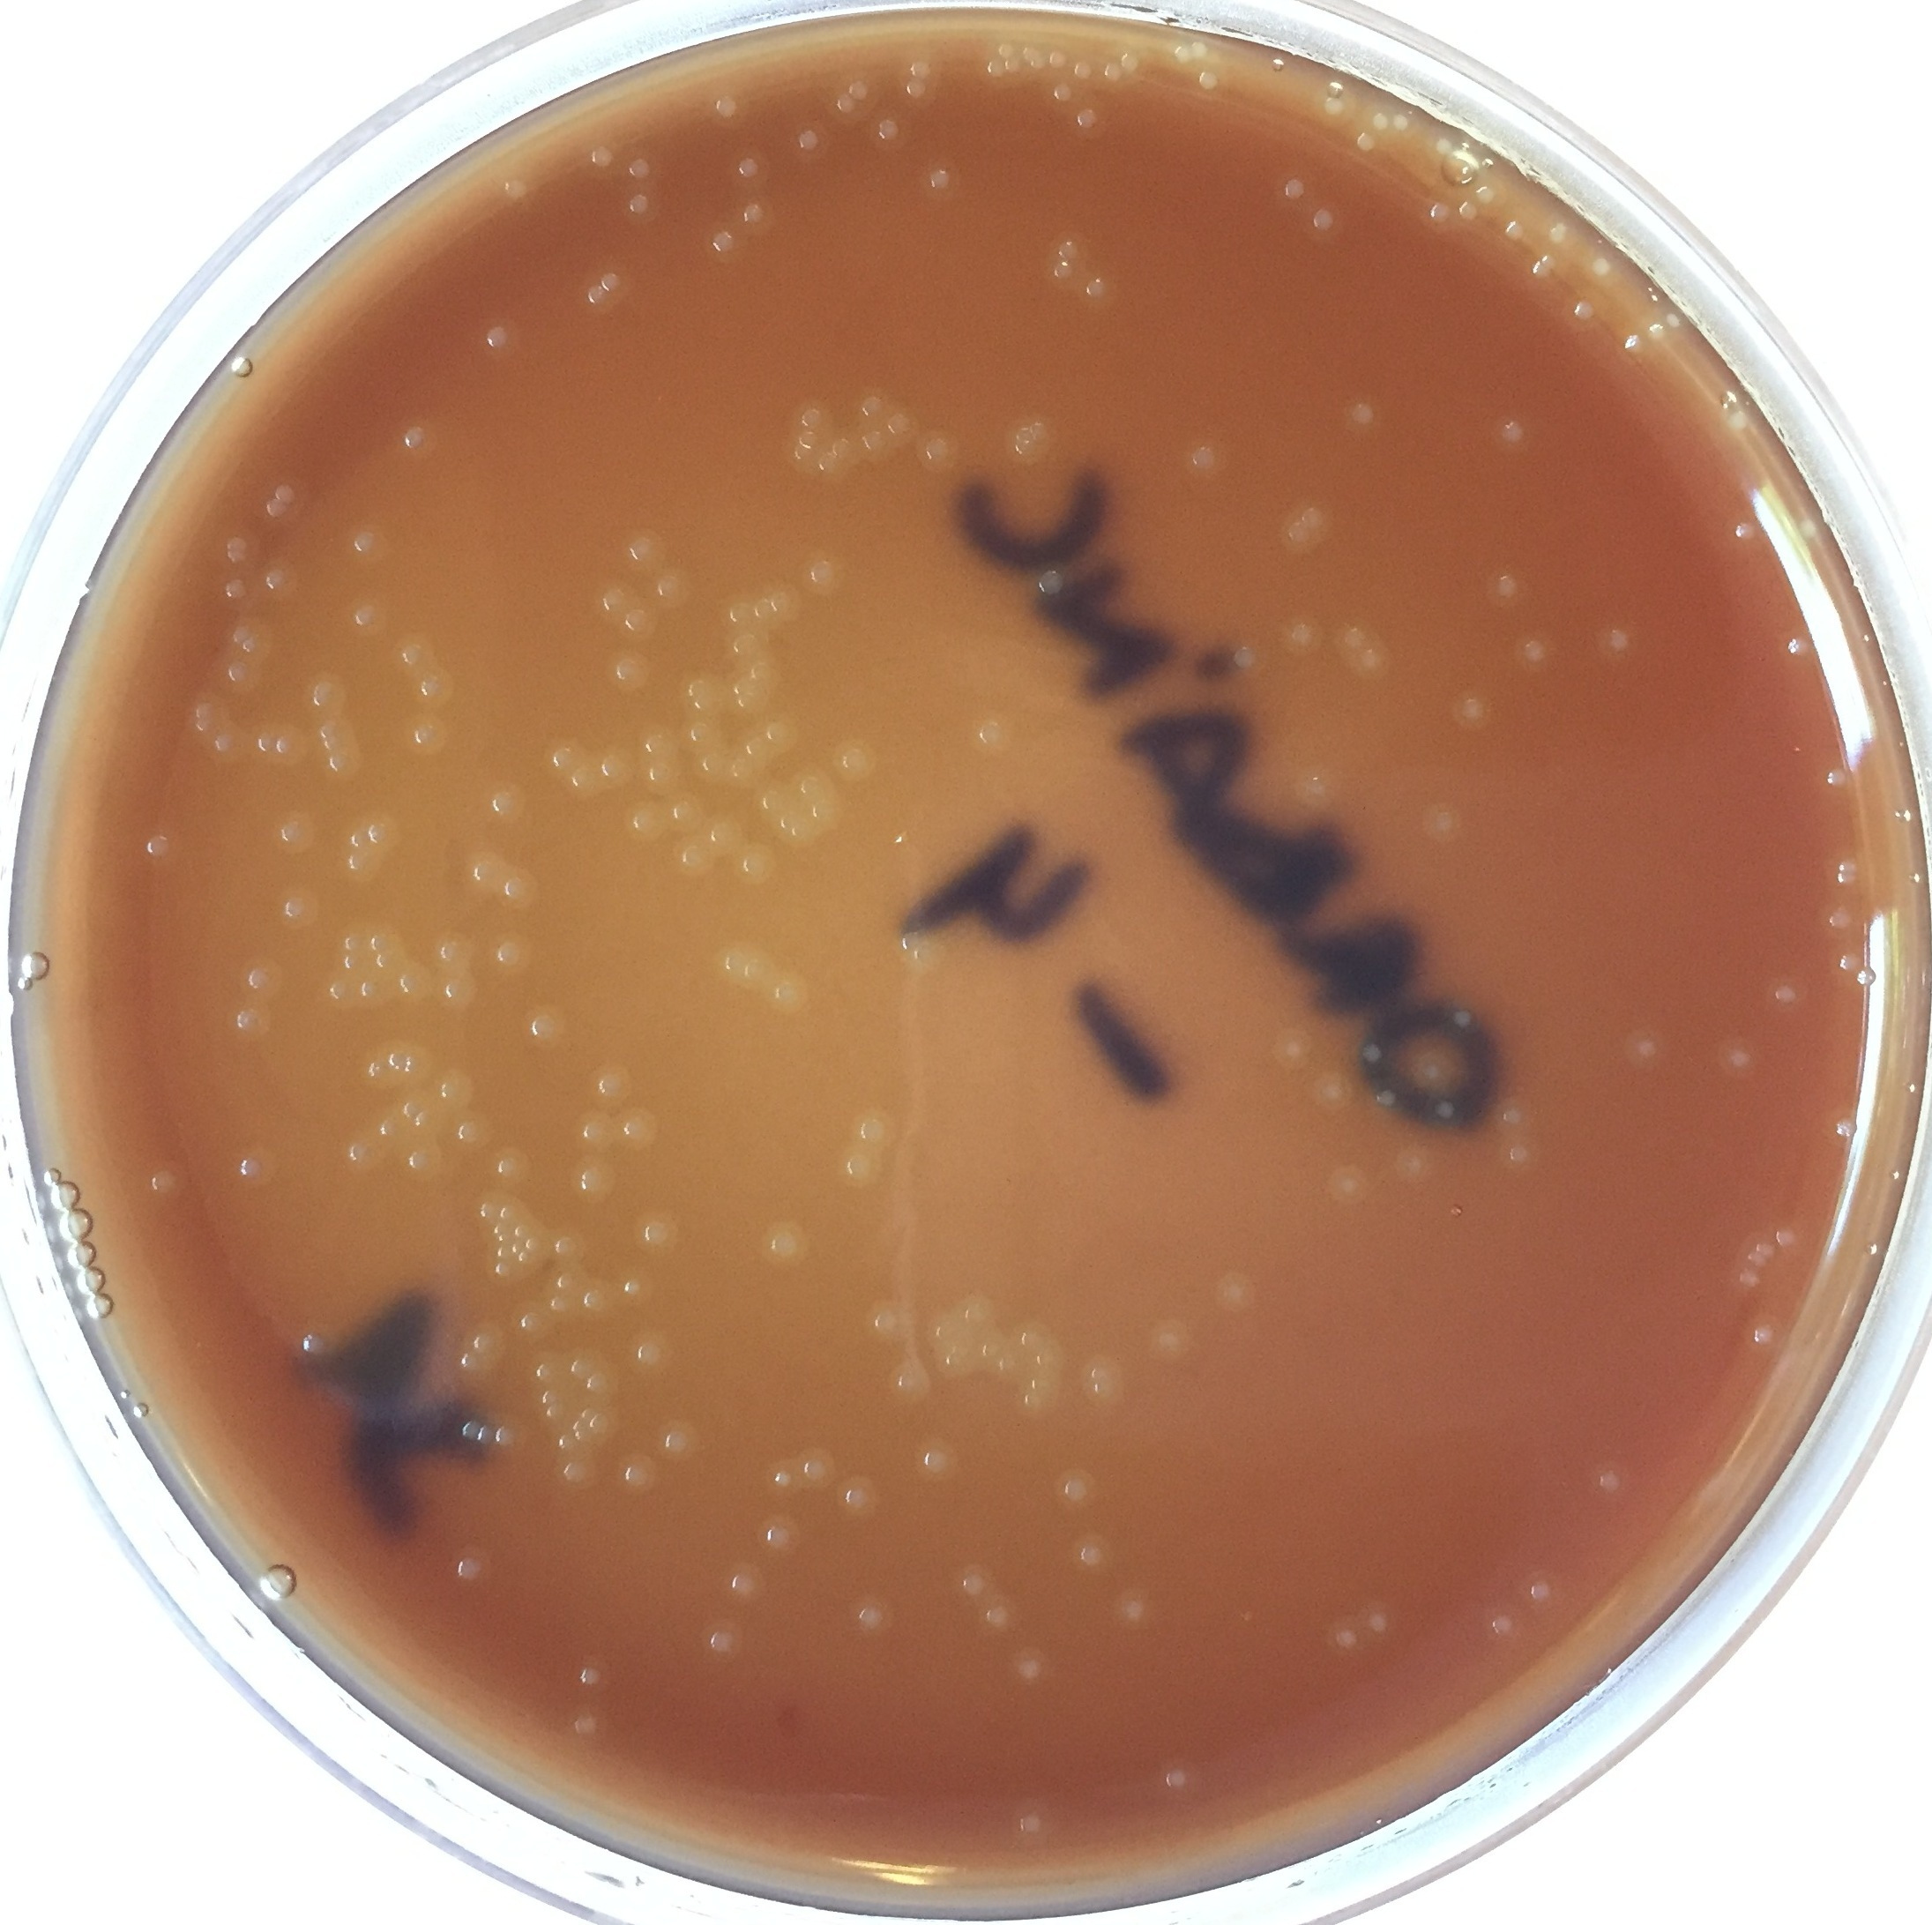sp10: (762, 1213, 807, 1278), (1391, 1141, 1444, 1197), (1417, 797, 1470, 851), (844, 1102, 899, 1153), (837, 1144, 885, 1199), (1719, 501, 1765, 557), (1266, 1022, 1317, 1072), (1327, 1162, 1373, 1216), (1713, 1035, 1763, 1084), (1010, 1796, 1056, 1847), (1624, 1028, 1668, 1079), (1597, 619, 1643, 666), (1765, 971, 1809, 1019), (1158, 1758, 1207, 1800), (1562, 287, 1599, 340), (1296, 765, 1341, 807), (1743, 1312, 1782, 1361), (1615, 324, 1655, 370), (1775, 624, 1814, 672), (705, 227, 747, 270), (1819, 1105, 1863, 1146), (1220, 1276, 1266, 1315), (573, 1162, 613, 1204), (1312, 1074, 1352, 1114), (762, 1516, 800, 1558), (1498, 1139, 1542, 1176), (1814, 758, 1853, 799), (957, 1292, 996, 1333), (867, 1304, 908, 1343), (1824, 938, 1861, 980), (723, 1564, 760, 1606), (883, 818, 922, 857), (1417, 1054, 1456, 1093), (638, 726, 679, 763), (1488, 1096, 1528, 1133), (890, 1366, 933, 1401), (559, 1454, 599, 1490), (1819, 899, 1858, 934), (1449, 1001, 1488, 1037), (622, 1111, 658, 1149), (910, 947, 950, 980), (1426, 1093, 1463, 1128), (957, 1567, 994, 1602), (629, 806, 666, 841), (837, 744, 874, 779), (576, 1111, 610, 1149), (1014, 1391, 1054, 1423), (1079, 1379, 1123, 1407), (571, 1710, 606, 1745), (839, 1479, 874, 1514), (589, 1068, 624, 1104), (679, 841, 714, 876), (740, 196, 774, 233), (809, 793, 843, 830), (620, 1460, 659, 1491), (938, 1347, 968, 1387), (575, 1659, 608, 1694), (1121, 1592, 1156, 1625), (703, 1627, 735, 1664), (855, 1601, 892, 1632), (1059, 1470, 1091, 1507), (453, 1553, 487, 1587), (918, 1446, 952, 1479), (1364, 1606, 1396, 1641), (497, 867, 529, 903), (709, 816, 744, 848), (1084, 1352, 1121, 1382), (799, 1454, 836, 1484), (640, 1218, 677, 1248), (984, 1602, 1017, 1634), (1155, 1322, 1188, 1354), (146, 1169, 180, 1200), (397, 640, 430, 672), (730, 631, 765, 661), (643, 762, 680, 790), (1021, 1371, 1068, 1393), (613, 656, 645, 687), (1733, 1262, 1766, 1292), (971, 1333, 1001, 1366), (739, 848, 769, 881), (550, 740, 580, 774), (1458, 693, 1488, 726), (920, 439, 955, 467), (1350, 400, 1386, 428), (360, 1054, 390, 1086), (728, 754, 758, 786), (1035, 1340, 1066, 1370), (1014, 1655, 1044, 1687), (635, 1340, 666, 1370), (661, 1426, 693, 1456), (622, 606, 654, 636), (806, 557, 837, 587), (980, 716, 1012, 746), (1357, 1035, 1386, 1068), (529, 1014, 562, 1042), (992, 1347, 1019, 1382), (1015, 1317, 1042, 1352), (927, 1313, 957, 1343), (301, 1329, 331, 1359), (234, 1007, 264, 1037), (719, 947, 749, 977), (599, 751, 629, 781), (1229, 643, 1259, 673), (1357, 645, 1387, 675), (1586, 254, 1615, 286), (754, 783, 786, 811), (1595, 1467, 1627, 1495), (624, 532, 652, 564), (654, 573, 686, 601), (1037, 569, 1065, 601), (1498, 416, 1530, 444), (763, 717, 790, 751), (1077, 1539, 1105, 1569), (1486, 1613, 1516, 1641), (405, 1148, 435, 1176), (308, 679, 338, 707), (494, 786, 524, 814), (786, 818, 818, 844), (723, 668, 754, 695), (1772, 1223, 1798, 1255), (769, 1467, 800, 1493), (349, 529, 375, 561), (599, 585, 631, 612), (1338, 624, 1370, 650), (1544, 217, 1569, 250), (324, 753, 358, 777), (518, 1306, 546, 1334), (234, 1155, 263, 1183), (769, 977, 797, 1005), (279, 820, 308, 846), (416, 673, 442, 703), (568, 767, 592, 799), (1742, 1250, 1773, 1275), (143, 834, 175, 858), (795, 127, 827, 152), (897, 927, 924, 955), (1334, 1625, 1361, 1654), (1527, 1578, 1553, 1606), (437, 1075, 464, 1104), (472, 857, 499, 885), (353, 601, 381, 628), (887, 412, 915, 439), (591, 145, 617, 173), (1495, 575, 1523, 601), (1190, 446, 1218, 472), (1287, 621, 1313, 649), (829, 439, 858, 464), (799, 774, 829, 799), (1310, 208, 1340, 233), (740, 658, 772, 680), (1824, 853, 1861, 873), (284, 894, 310, 920), (876, 118, 903, 145), (1373, 1084, 1398, 1112), (247, 966, 271, 994), (222, 578, 250, 603), (927, 166, 955, 190), (346, 851, 375, 874), (1523, 636, 1546, 666), (739, 695, 776, 712), (568, 1356, 594, 1380), (552, 1232, 578, 1257), (397, 971, 423, 996), (411, 723, 435, 749), (402, 425, 427, 451), (626, 157, 652, 182), (1052, 236, 1081, 259), (742, 728, 765, 756), (1854, 966, 1879, 991), (347, 1141, 372, 1165), (442, 977, 467, 1001), (585, 282, 610, 307), (457, 1119, 479, 1146), (495, 1153, 522, 1176), (494, 941, 520, 964), (672, 800, 695, 827), (689, 721, 716, 744), (702, 749, 724, 776), (862, 428, 888, 451), (626, 192, 652, 215), (714, 93, 740, 116), (460, 1350, 481, 1379), (582, 1290, 610, 1312), (1049, 83, 1077, 104), (1320, 99, 1349, 120), (1828, 874, 1861, 892), (1754, 1237, 1777, 1262), (552, 1269, 576, 1292), (557, 1431, 580, 1456), (326, 978, 351, 1001), (226, 659, 250, 682), (367, 820, 390, 844), (271, 483, 296, 506), (261, 568, 286, 591), (860, 395, 883, 420), (504, 178, 529, 201), (846, 79, 869, 104), (1391, 113, 1416, 136), (1280, 176, 1303, 201), (1084, 277, 1109, 300), (1428, 201, 1451, 226), (1474, 183, 1497, 208), (686, 698, 721, 714), (485, 324, 511, 346), (1102, 62, 1128, 83), (241, 636, 264, 659), (730, 599, 753, 622), (599, 271, 622, 294), (910, 58, 933, 81), (344, 829, 368, 850), (494, 1423, 515, 1447), (587, 1373, 612, 1394), (412, 1107, 437, 1128), (356, 978, 381, 1000), (383, 1051, 407, 1072), (213, 730, 234, 754), (273, 733, 294, 758), (686, 677, 707, 702), (795, 405, 820, 427), (1045, 49, 1070, 71), (1072, 60, 1096, 81), (1121, 51, 1142, 76), (1197, 69, 1222, 90), (476, 1421, 495, 1447), (469, 1331, 495, 1350), (1283, 522, 1310, 541), (1301, 508, 1320, 534), (532, 1359, 555, 1380), (377, 1116, 400, 1137), (478, 1199, 499, 1222), (370, 950, 393, 971), (437, 941, 458, 964), (254, 730, 275, 753), (264, 497, 286, 520), (737, 157, 760, 178), (832, 93, 855, 115), (906, 79, 929, 100), (982, 58, 1003, 81), (1074, 108, 1096, 129), (1502, 220, 1525, 242), (1356, 132, 1380, 152), (550, 1294, 571, 1315), (545, 1401, 566, 1423), (400, 1096, 421, 1118), (1051, 259, 1072, 280), (1458, 201, 1479, 222), (368, 931, 391, 950), (226, 534, 249, 554), (996, 41, 1015, 63), (340, 955, 365, 973), (797, 430, 821, 448), (776, 807, 795, 829), (620, 1278, 642, 1297), (754, 599, 774, 621), (462, 1417, 479, 1440), (494, 1245, 516, 1262), (342, 933, 360, 955), (226, 548, 249, 566), (820, 450, 839, 469), (192, 698, 213, 716), (591, 1414, 612, 1431), (494, 1262, 515, 1280), (790, 450, 813, 465), (233, 624, 250, 643), (1005, 58, 1024, 76), (1371, 115, 1391, 132), (1532, 263, 1551, 280), (1541, 252, 1558, 271), (1015, 427, 1035, 444), (1014, 442, 1035, 458), (319, 719, 337, 737), (196, 717, 213, 735), (499, 1202, 515, 1222), (525, 1236, 545, 1252), (324, 735, 342, 751), (516, 1248, 532, 1266), (1174, 46, 1190, 63), (539, 1389, 559, 1403), (1033, 421, 1047, 441), (515, 1222, 531, 1237)
